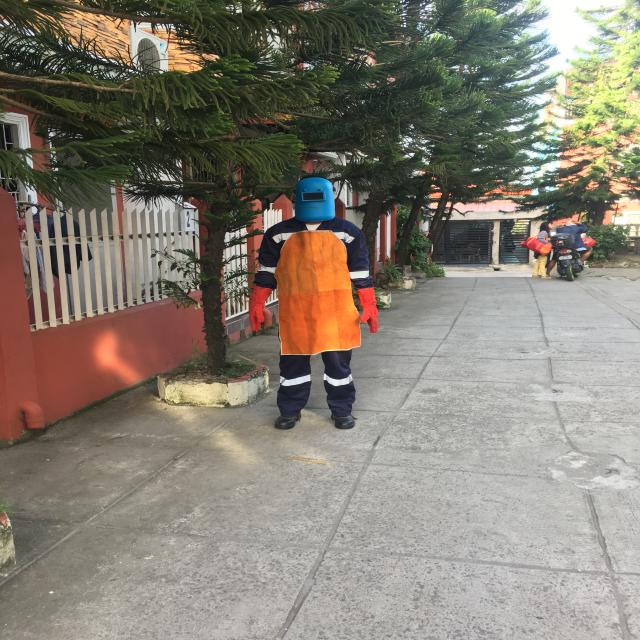with_helmet: (295, 177, 335, 222)
